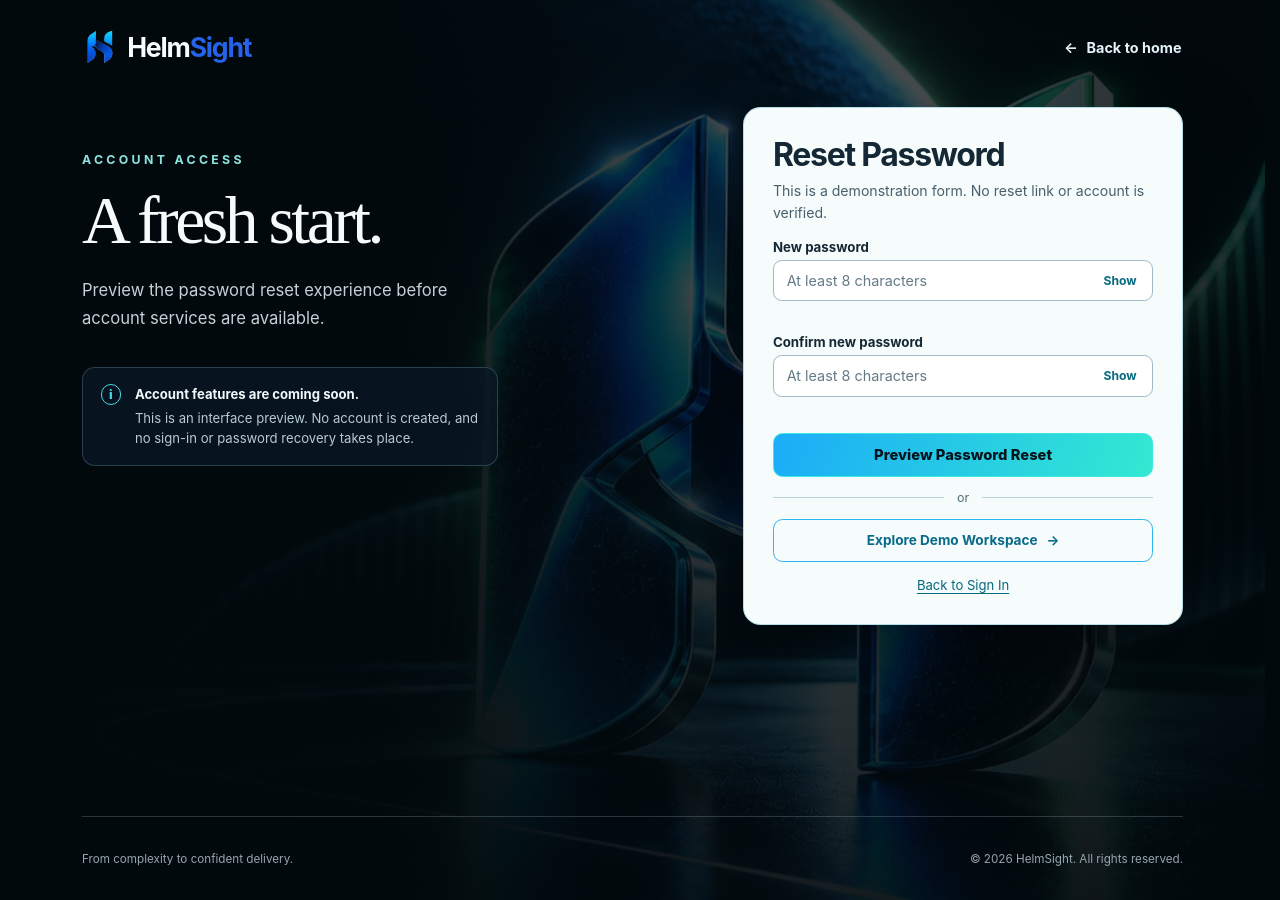
Test: Auth UI Prototype › offers a reset preview without claiming to change a password
Type "newPass123" into the password field labelled "New password" at (963, 281), box top-left (773, 260), bottom-right (1153, 302)
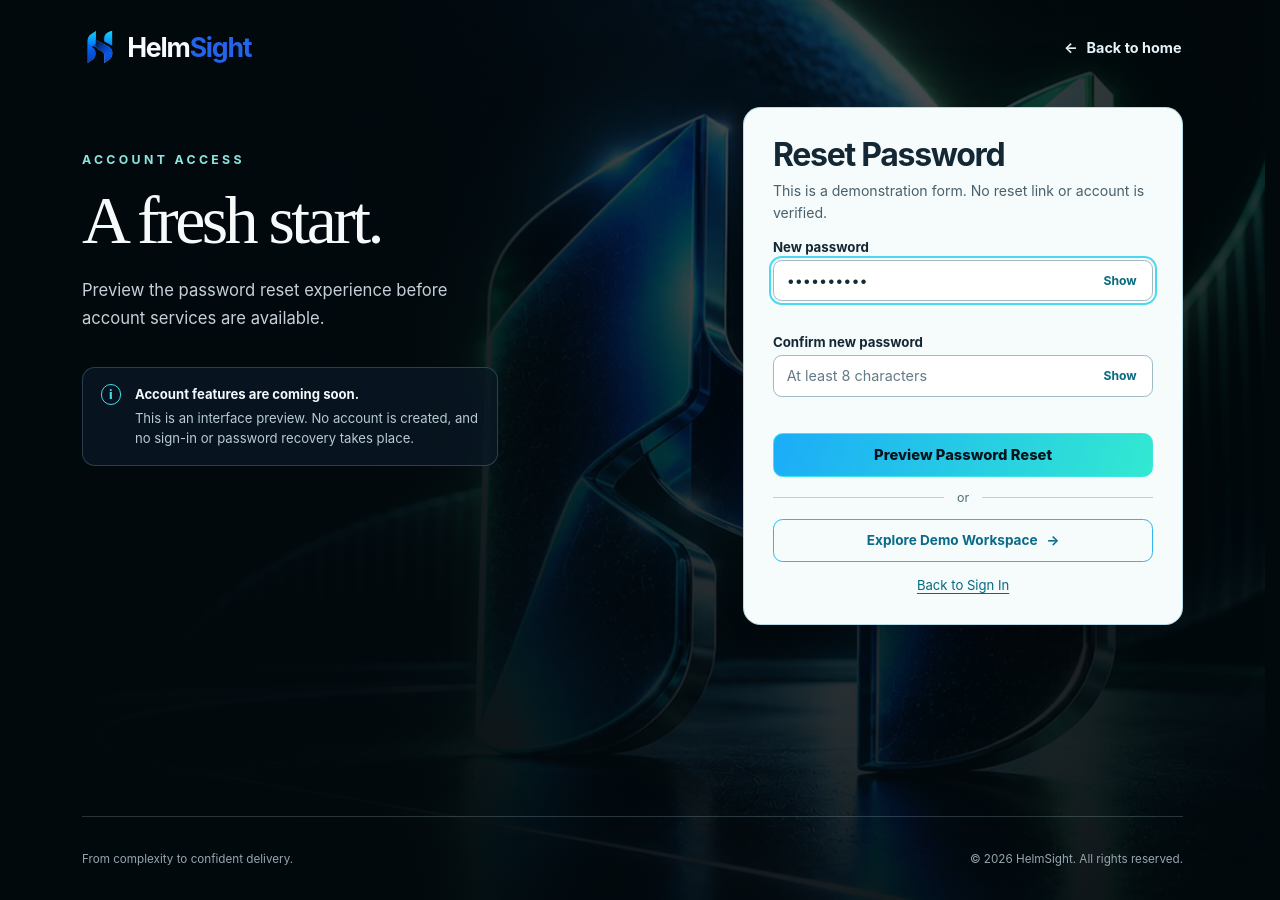
Type "newPass123" into the password field labelled "Confirm new password" at (963, 376), box top-left (773, 355), bottom-right (1153, 397)
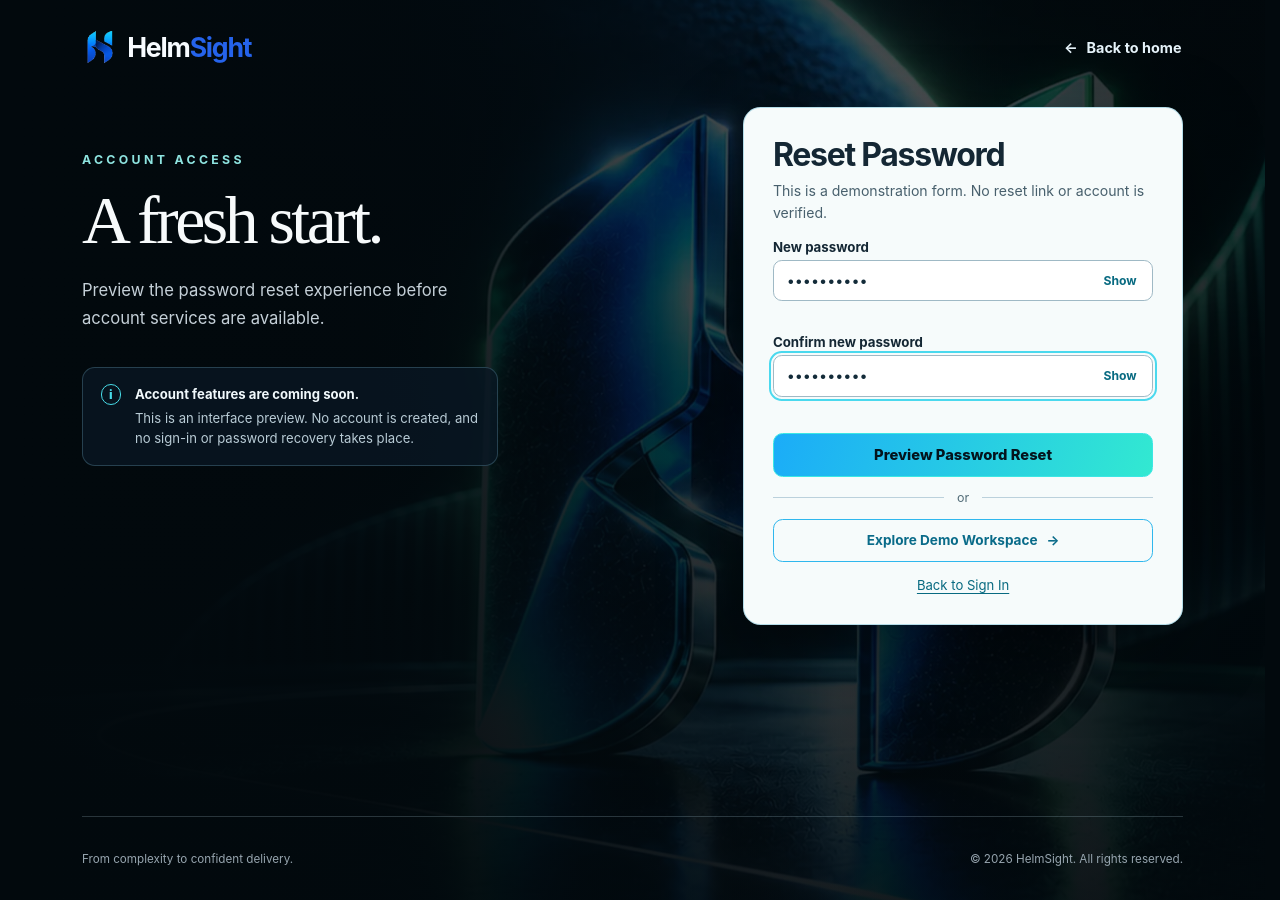
Click the button "Preview Password Reset" at (963, 455), box top-left (773, 433), bottom-right (1153, 477)
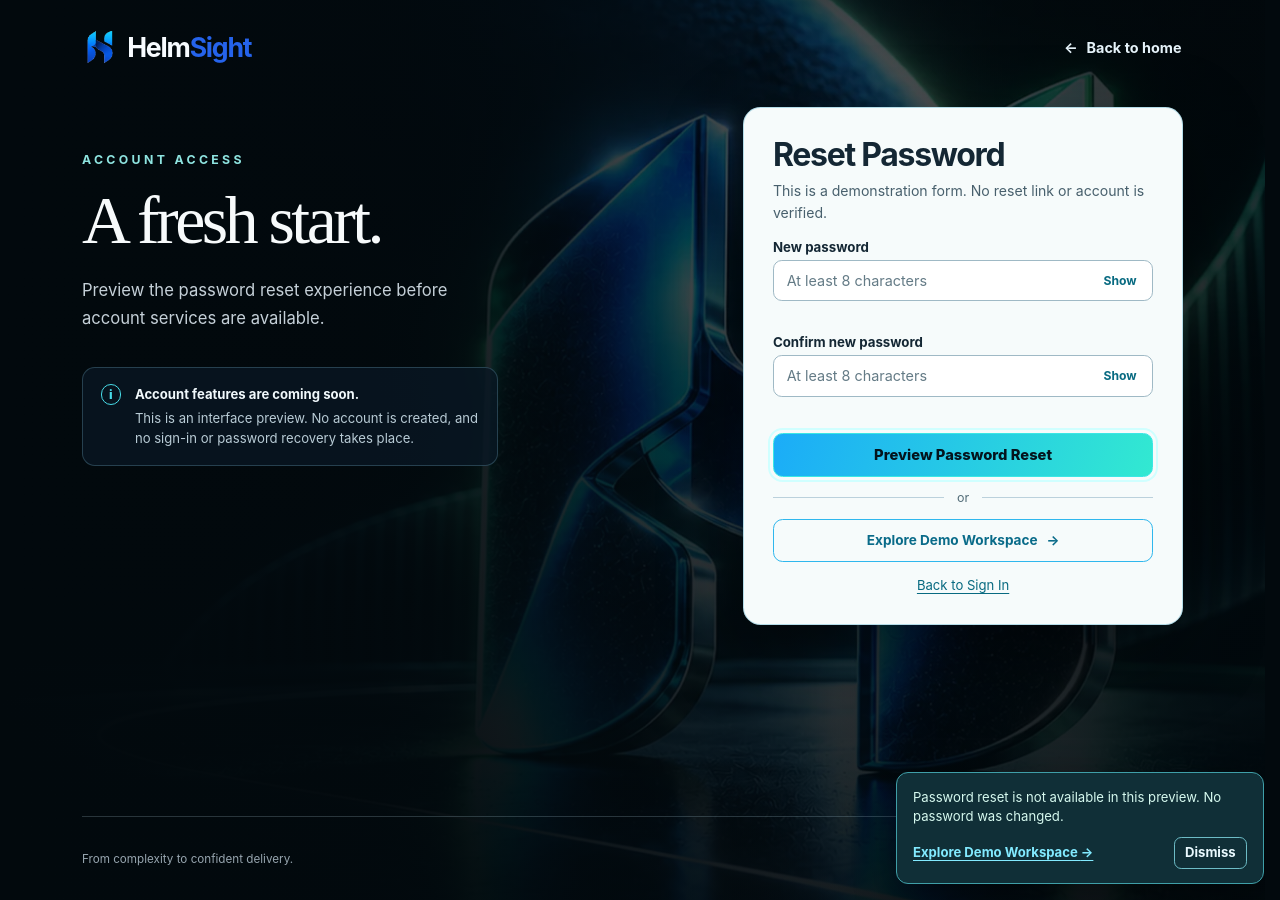
expect the message shows "No password was changed": met, box top-left (913, 789), bottom-right (1221, 824)
expect the password field labelled "New password" is empty: met, box top-left (773, 260), bottom-right (1153, 302)
